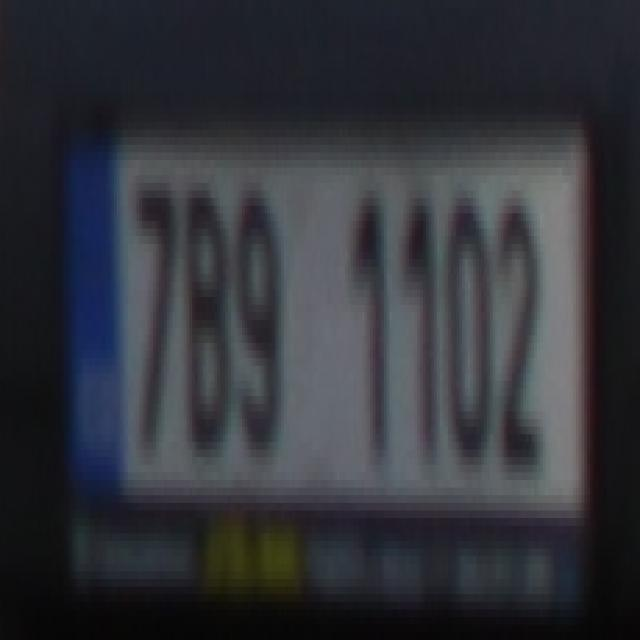0: (446, 183, 496, 465)
1: (400, 183, 446, 465), (354, 182, 389, 450)
2: (495, 198, 540, 480)
7: (130, 182, 172, 450)
9: (236, 175, 284, 457)
B: (178, 182, 228, 450)
